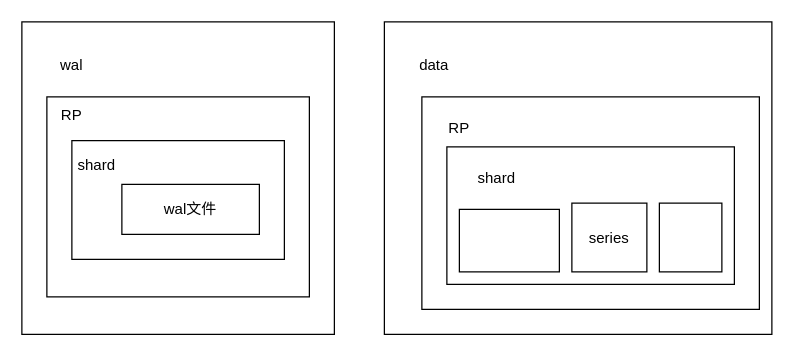
The diagram is 794 pixels wide and 356 high, and some of its shapes have lost their labels. Here are the shapes that lost their labels. From the top down, the box of each, then its label:
(458, 208, 559, 272): .tsm文件
(658, 202, 722, 272): index（tsi）
